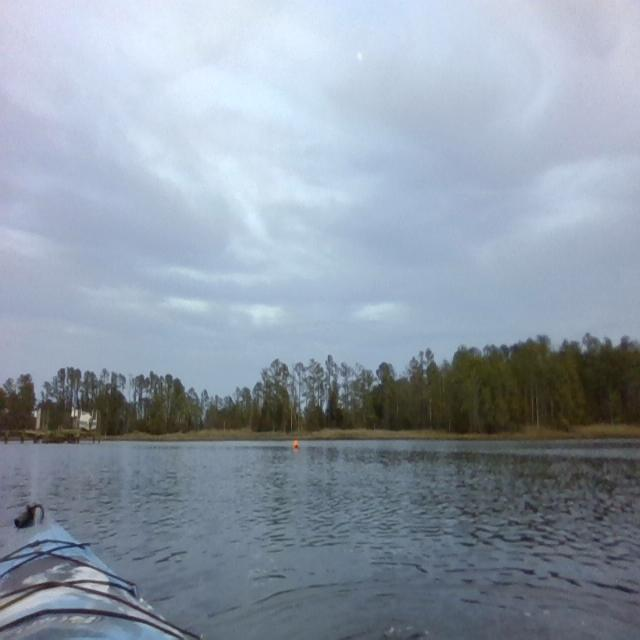Buoy: (292, 438, 299, 451)
